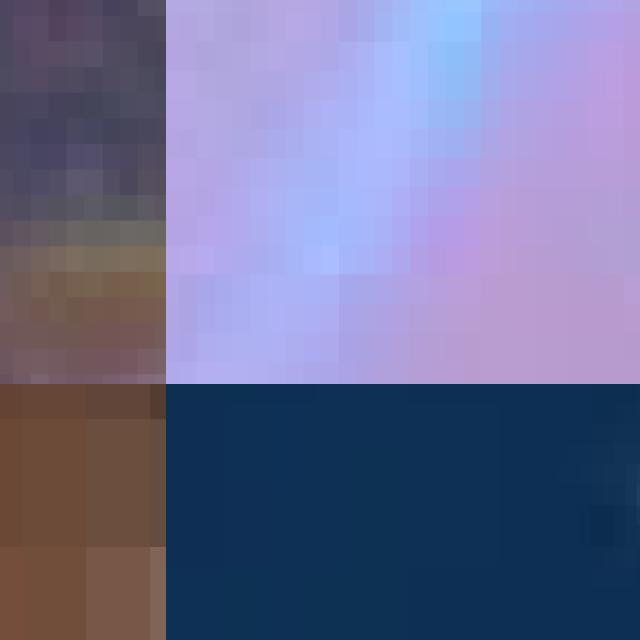fish: (0, 0, 166, 384)
